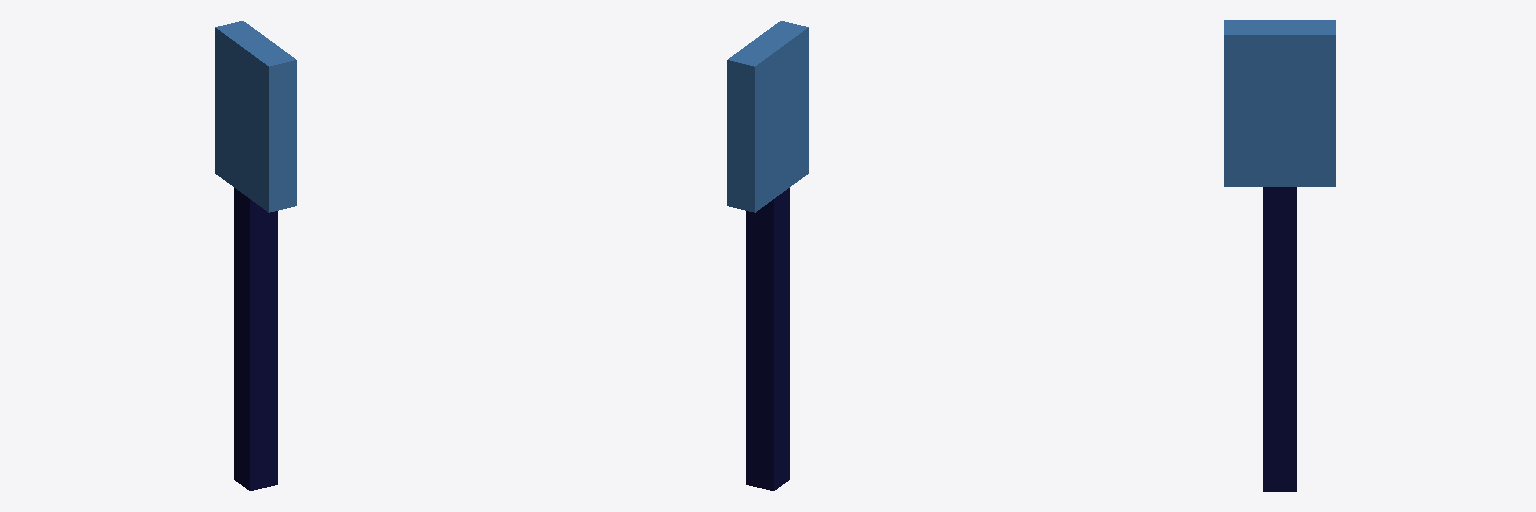
URDF robot description (arm):
<?xml version="1.0"?>
<robot name="arm">
  
  <link name="base_link"/>
  <joint name="joint1" type="revolute">
   <axis xyz="0 1 0"/>
   <origin xyz="0 0 0"/>
   <parent link="base_link"/>
   <child link="link1"/>
   <limit lower="-0.75" upper="1.5" velocity="50" effort="200.0"/>
  </joint>
  <link name="link1">
    <visual>
      <geometry>
        <box size="0.06 0.06 0.3"/>	
      </geometry>
      <origin xyz="0 0 0.15" rpy="0 0 0"/>
      <material name="link1_mat">
        <color rgba="0.1 0.1 0.3 1"/>
      </material>
    </visual>
    <!-- <collision> -->
    <!--   <geometry> -->
    <!--     <box size="0.06 0.06 0.3"/>	 -->
    <!--   </geometry> -->
    <!-- </collision> -->
    <inertial>
      <mass value="1"/>
      <inertia ixx="0.72" ixy="-0.036" ixz="-0.036" iyy="0.3636" iyz="-0.36" izz="0.3636"/>
    </inertial>
  </link>
  
  <joint name="joint2" type="revolute">
    <axis xyz="0 1 0"/>
    <origin xyz="0 0 0.3"/>
    <parent link="link1"/>
    <child link="link2"/>
    <limit lower="-2.5" upper="0.0" velocity="50" effort="200.0"/>
  </joint>
  <link name="link2">
    <visual>
      <geometry>
        <box size="0.06 0.06 0.3"/>	
      </geometry>
      <origin xyz="0 0 0.15"/>
      <material name="link2_mat">
        <color rgba="0.1 0.1 0.3 1"/>
      </material>
    </visual>
    <!-- <collision> -->
    <!--   <geometry> -->
    <!--     <box size="0.06 0.06 0.3"/>	 -->
    <!--   </geometry> -->
    <!-- </collision> -->
    <inertial>
      <mass value="1"/>
      <inertia ixx="0.72" ixy="-0.036" ixz="-0.036" iyy="0.3636" iyz="-0.36" izz="0.3636"/>
    </inertial>
  </link>

  <joint name="joint3" type="revolute">
    <axis xyz="0 1 0"/>
    <origin xyz="0 0 0.3"/>
    <parent link="link2"/>
    <child link="hand"/>
    <limit lower="-0.75" upper="1.5" velocity="50" effort="200.0"/>
  </joint>  
  <link name="hand">
    <visual>
      <geometry>
        <box size="0.06 0.2 0.3"/>
	<mesh filename="objects/meshes/hand.obj"/>
      </geometry>
      <origin xyz="0 0 0.15"/>
      <material name="hand_mat">
        <color rgba="0.3 0.5 0.7 1"/>
      </material>
    </visual>
    <collision>
      <origin xyz="0 0 0.15"/>
      <geometry>
        <box size="0.06 0.2 0.3"/>
	<mesh filename="objects/meshes/hand.obj"/>
      </geometry>
      <surface>
	<contact>
	  <kp>100000</kp>
	  <kd>1</kd>
	</contact>
      </surface>
    </collision>
    <inertial>
      <mass value="1"/>
      <inertia ixx="0.72" ixy="-0.036" ixz="-0.036" iyy="0.3636" iyz="-0.36" izz="0.3636"/>
    </inertial>
  </link>

</robot>

--- What the picture shows (computed from the rendered views, not written in the file) ---
The picture shows the robot from 3 angles, left to right: view 1: azimuth 30°, elevation 25°; view 2: azimuth 150°, elevation 25°; view 3: azimuth 270°, elevation 25°; orthographic projection.
Robot: arm — 4 links, 3 joints (3 revolute); root link base_link; default pose: all joints at 0.
Links seen in each view (by area): view 1: hand, link1, link2; view 2: hand, link1, link2; view 3: hand, link1, link2.
Boxes of the visible links, x1,y1,x2,y2 form: hand: [215, 21, 296, 212]; link1: [234, 334, 277, 490]; link2: [234, 188, 277, 344]; hand: [727, 21, 808, 212]; link1: [746, 334, 789, 490]; link2: [746, 188, 789, 344]; hand: [1224, 20, 1335, 186]; link1: [1263, 339, 1296, 491]; link2: [1263, 187, 1296, 338].
Bounding box of the posed robot: 0.06 × 0.2 × 0.9 m (x, y, z).
Geometry: primitives only (box / cylinder / sphere), no mesh files.
